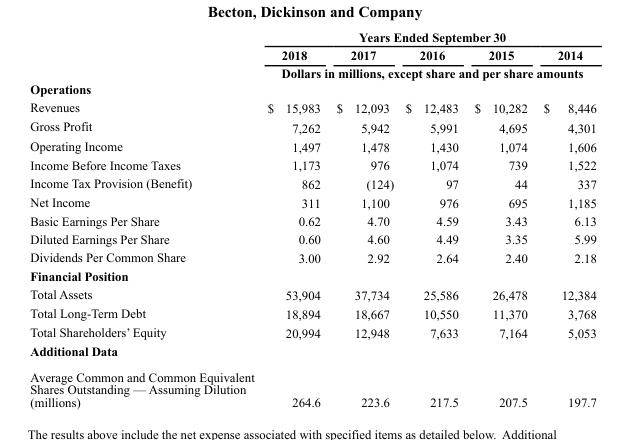table: (29, 29, 595, 408)
table column: (29, 29, 260, 408), (327, 29, 398, 408), (465, 29, 534, 408), (260, 29, 327, 408), (398, 29, 465, 408), (534, 29, 595, 408)
table column header: (29, 29, 595, 80)
table projected row header: (29, 341, 595, 363), (29, 266, 595, 284), (29, 80, 595, 97)
table row: (29, 363, 595, 408), (29, 341, 595, 363), (29, 97, 595, 117), (29, 117, 595, 136), (29, 136, 595, 155), (29, 173, 595, 192), (29, 192, 595, 211), (29, 247, 595, 266), (29, 284, 595, 303), (29, 303, 595, 322), (29, 322, 595, 341), (29, 45, 595, 63), (29, 155, 595, 173), (29, 211, 595, 229), (29, 229, 595, 247), (29, 266, 595, 284), (29, 63, 595, 80), (29, 80, 595, 97), (29, 29, 595, 45)
table spanning cell: (260, 63, 595, 80), (260, 29, 595, 45)
